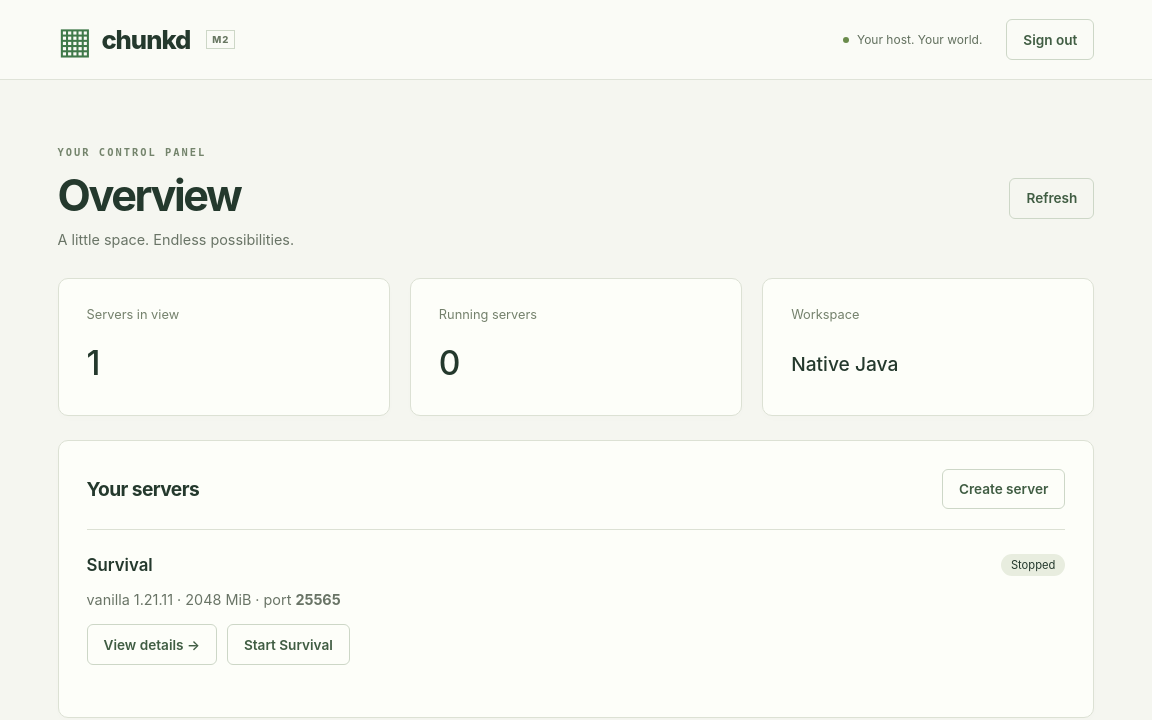
Test case: opens a server detail page from the overview without a recent jobs section
Click the link "View details →": (152, 645) [87,624,217,665]
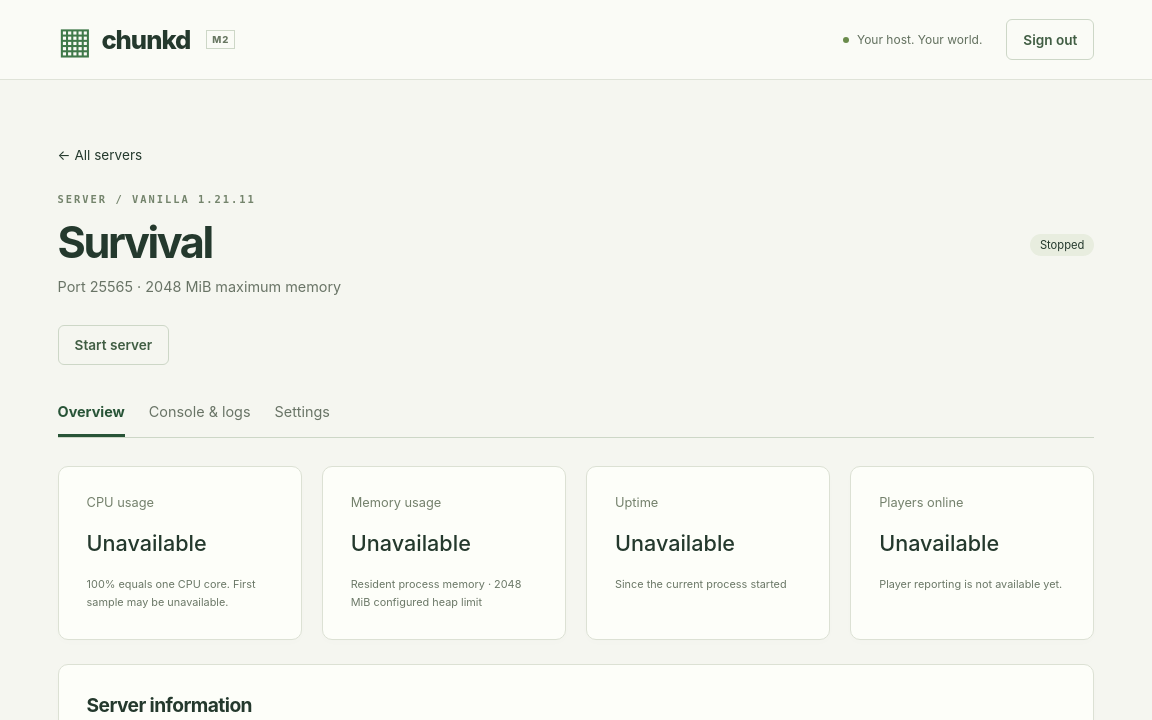
Now the heading "Server information" is shown, box [87,693,252,717]
Click the link "← All servers": (100, 155) [58,147,142,163]
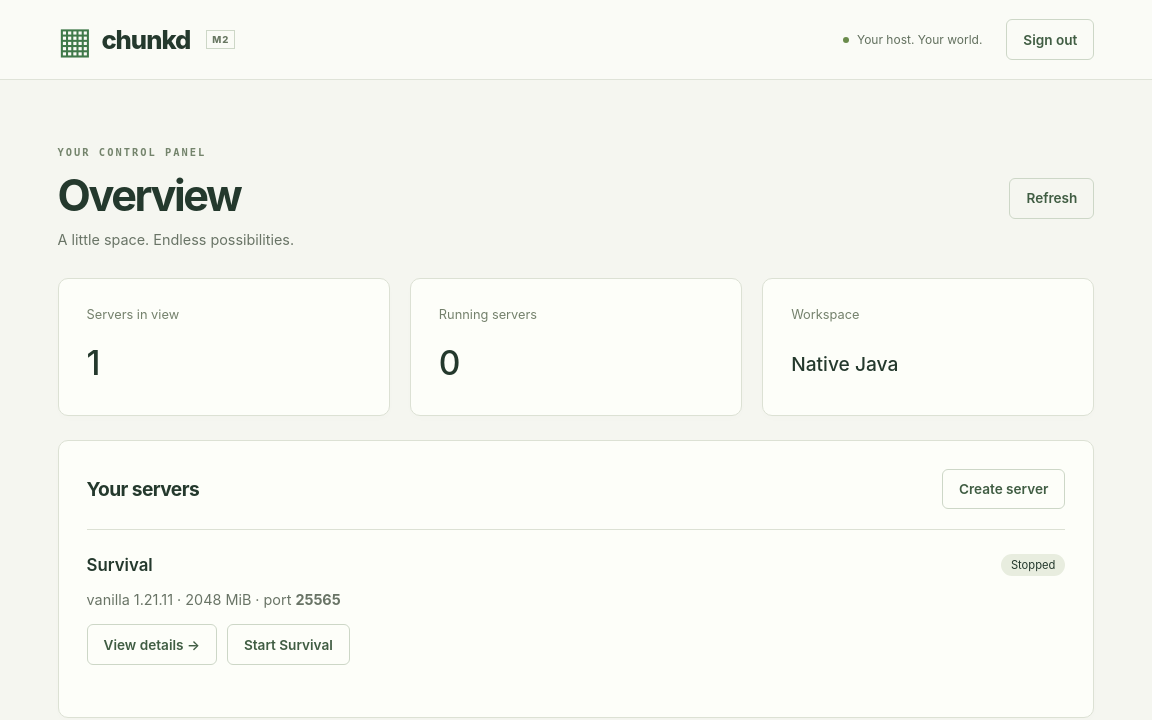
Now the heading "Overview" is shown, box [58,169,240,221]
